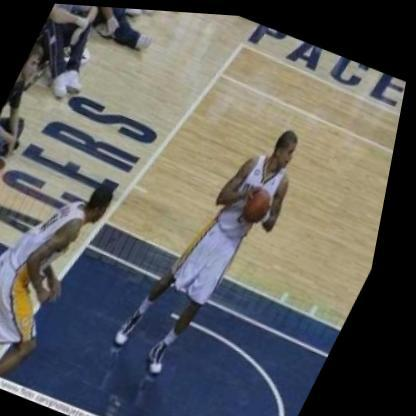basketball: (242, 177, 285, 227)
